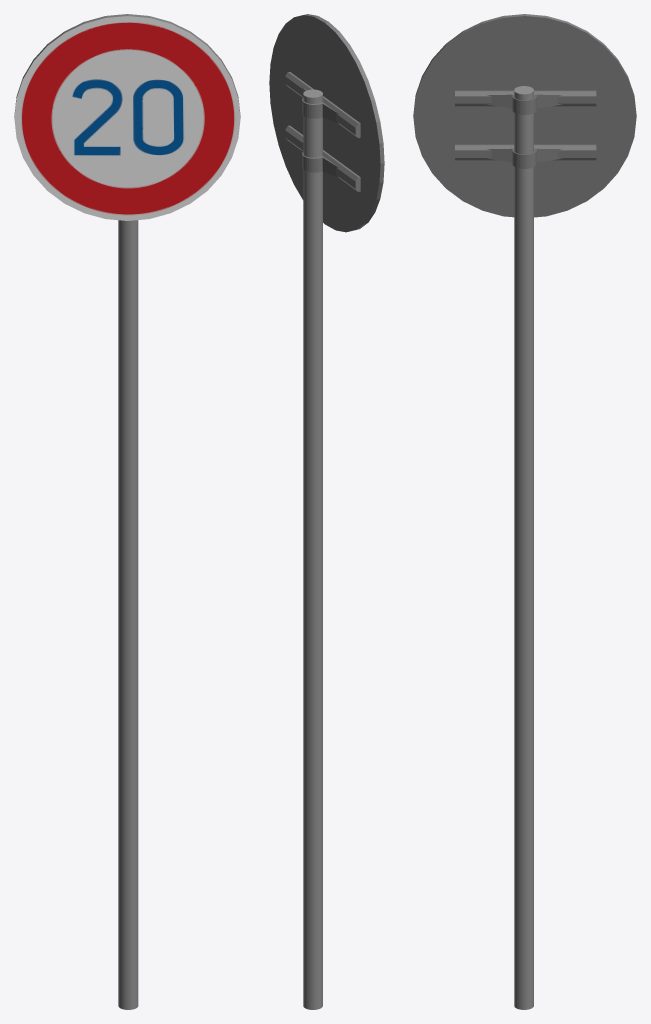
3 views of the same model, side by side, from view 1: azimuth 90°, elevation 25°; view 2: azimuth 210°, elevation 25°; view 3: azimuth 270°, elevation 25° (orthographic).
Visible parts, largest first — view 1: 025-20, Prop; view 2: Prop, 025-20; view 3: 025-20, Prop.
Part boxes in pixels (x1,y1,x2,y2): 025-20: [14, 14, 240, 220]; Prop: [118, 220, 138, 1009]; Prop: [285, 72, 360, 1009]; 025-20: [269, 14, 384, 232]; 025-20: [413, 14, 636, 217]; Prop: [455, 86, 596, 1009].
Size of the model in its own units: 6.76 by 253 by 52.01.
